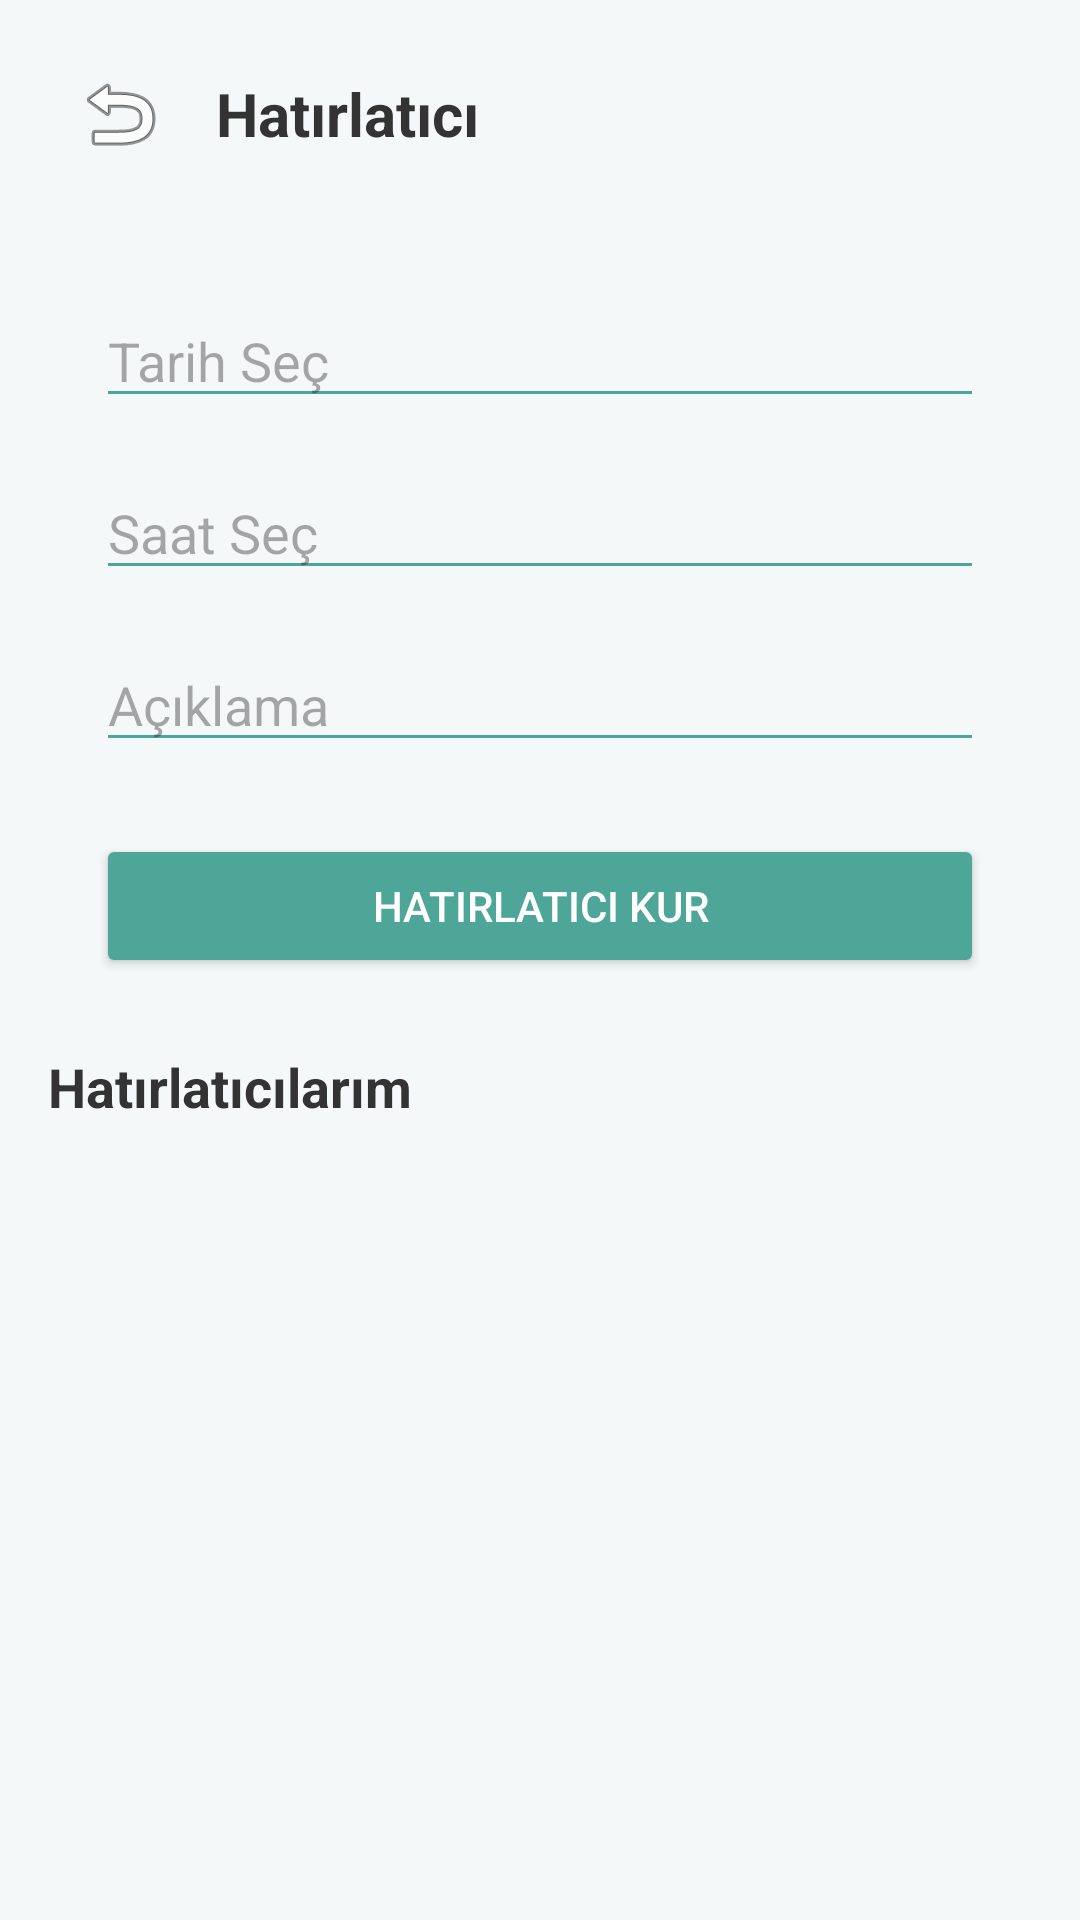

Icons on this 1080 × 1920 Android screen, each with the point to tap as [x,y]:
Geri: [121,114]
